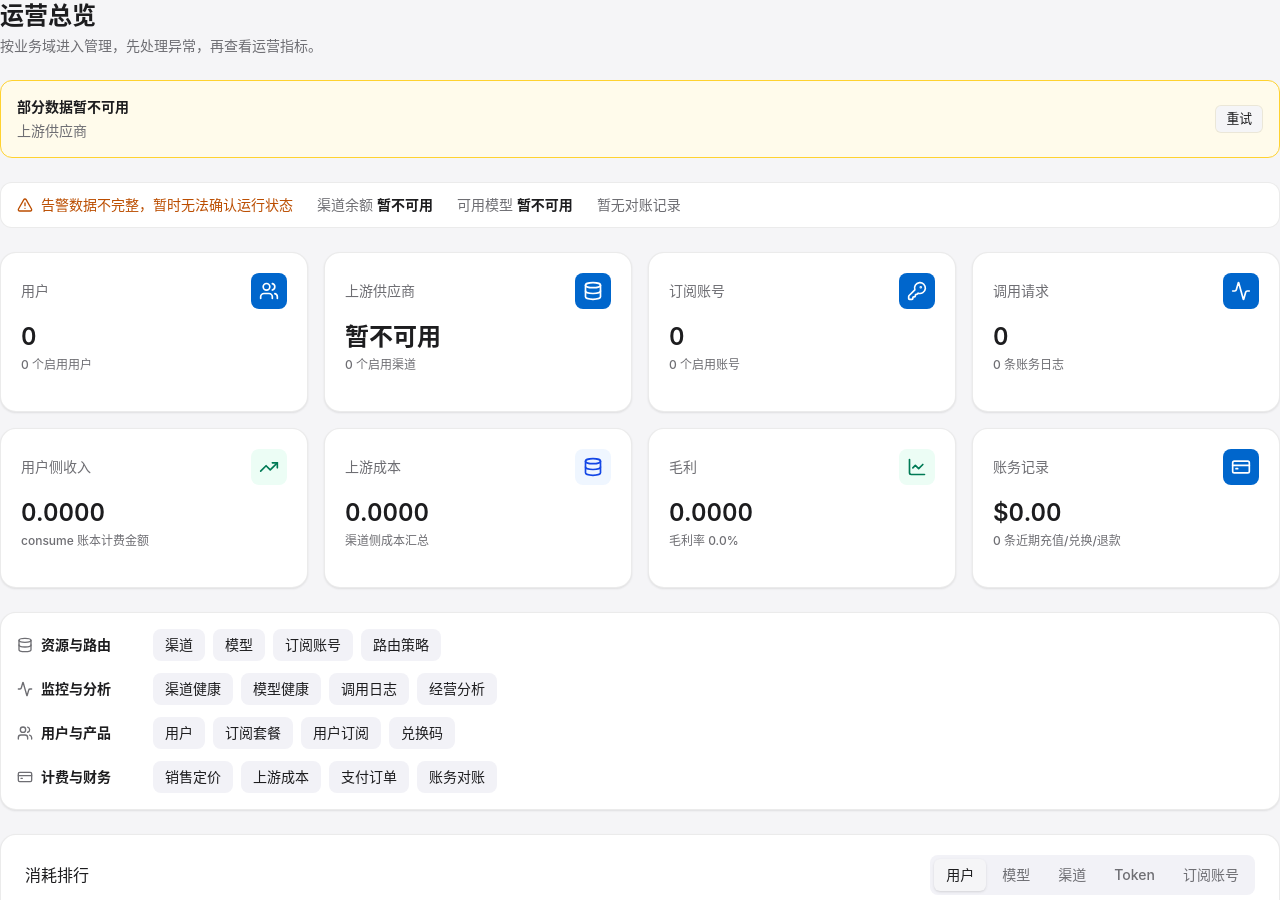
Test: AdminOverviewPage availability › refreshes a partial response and clears the unavailable state after recovery
Expected: the text "部分数据暂不可用" is shown, [17,97,129,117]
Click the button "重试" at (1239, 119), box [1215,105,1263,133]
(page scrolled)
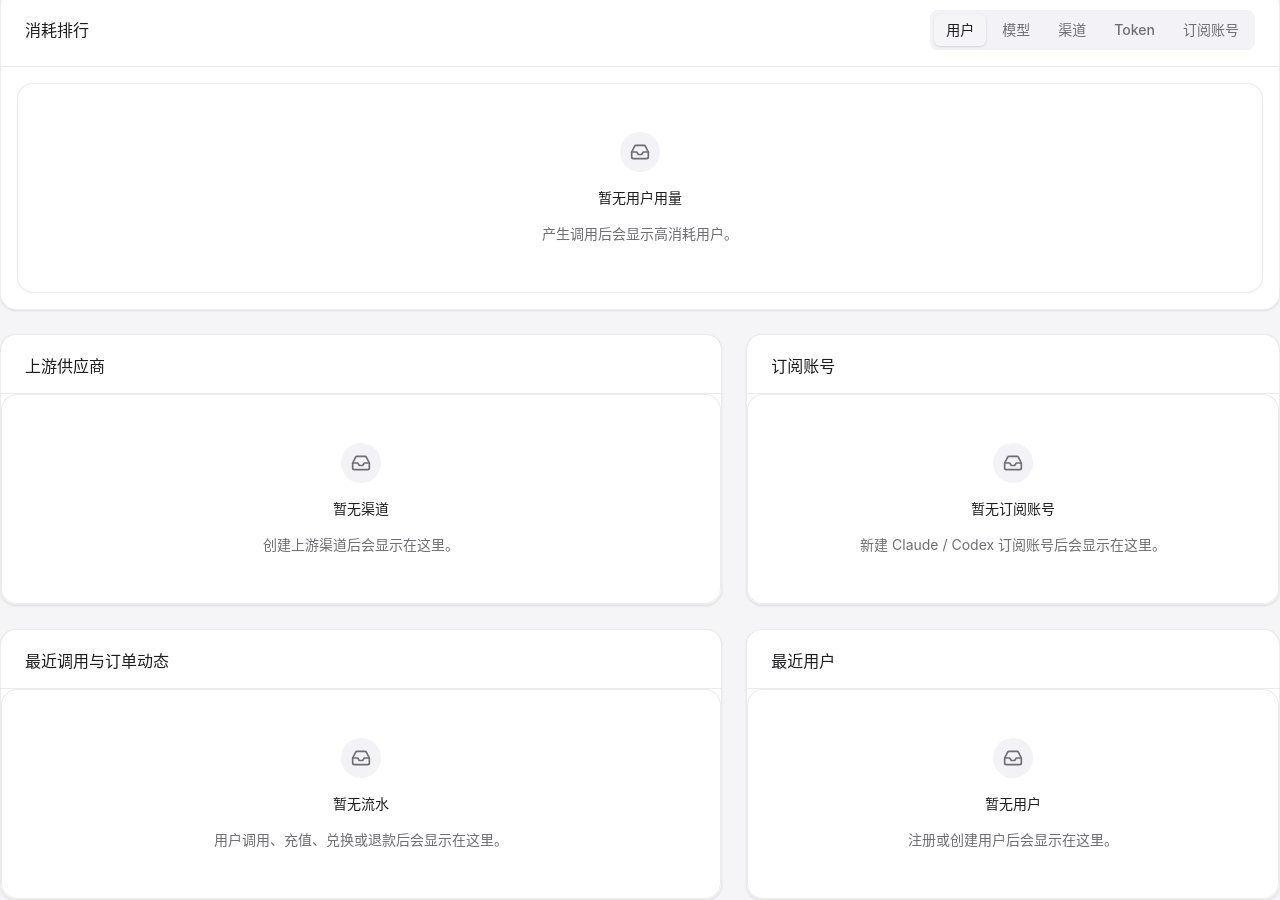
Now the text "暂无渠道" is shown, box [333,499,389,519]
Now the text "部分数据暂不可用" is gone
